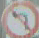Don't turn left: (0, 0, 38, 36)
